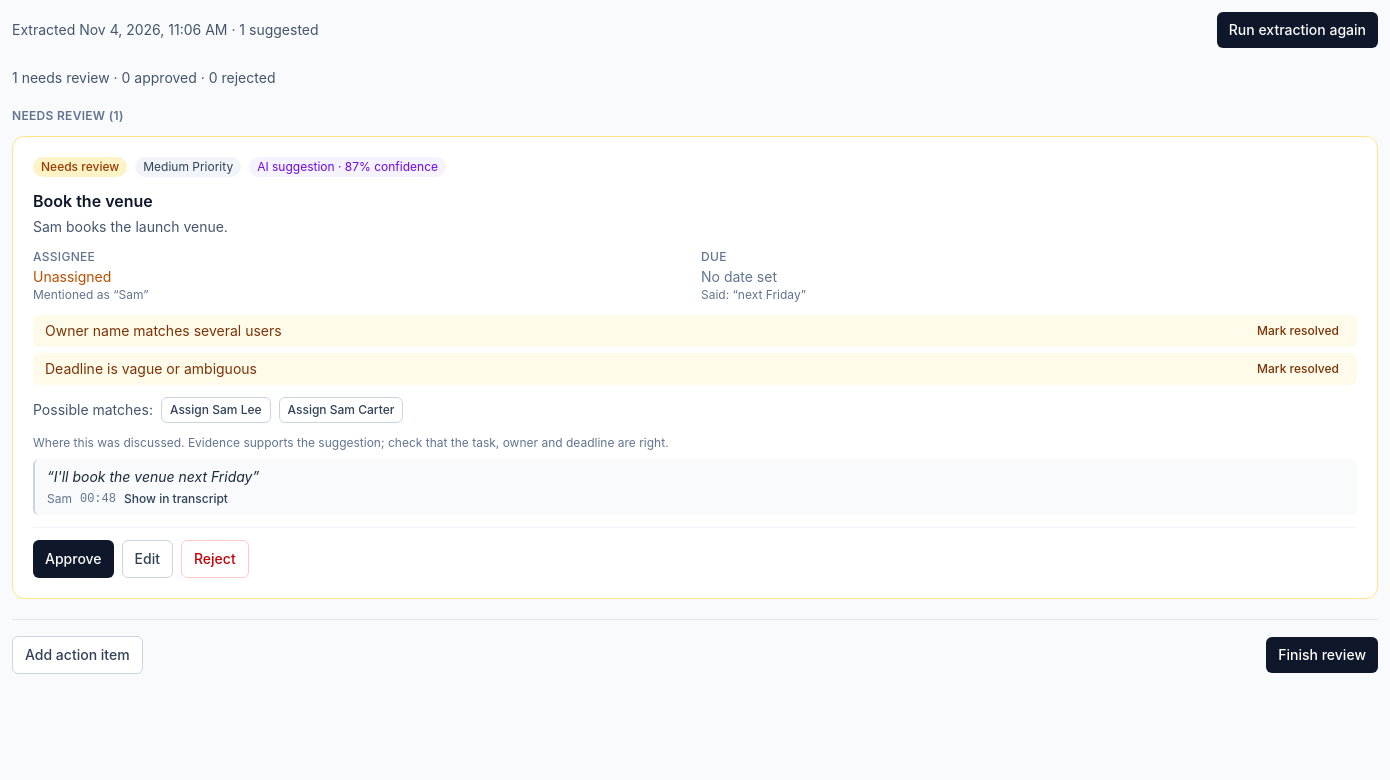
reviewing items › shows server validation errors next to fields
This screenshot has width=1390, height=780.
Click the button "Edit".
click(147, 559)  # box [122,540,173,578]
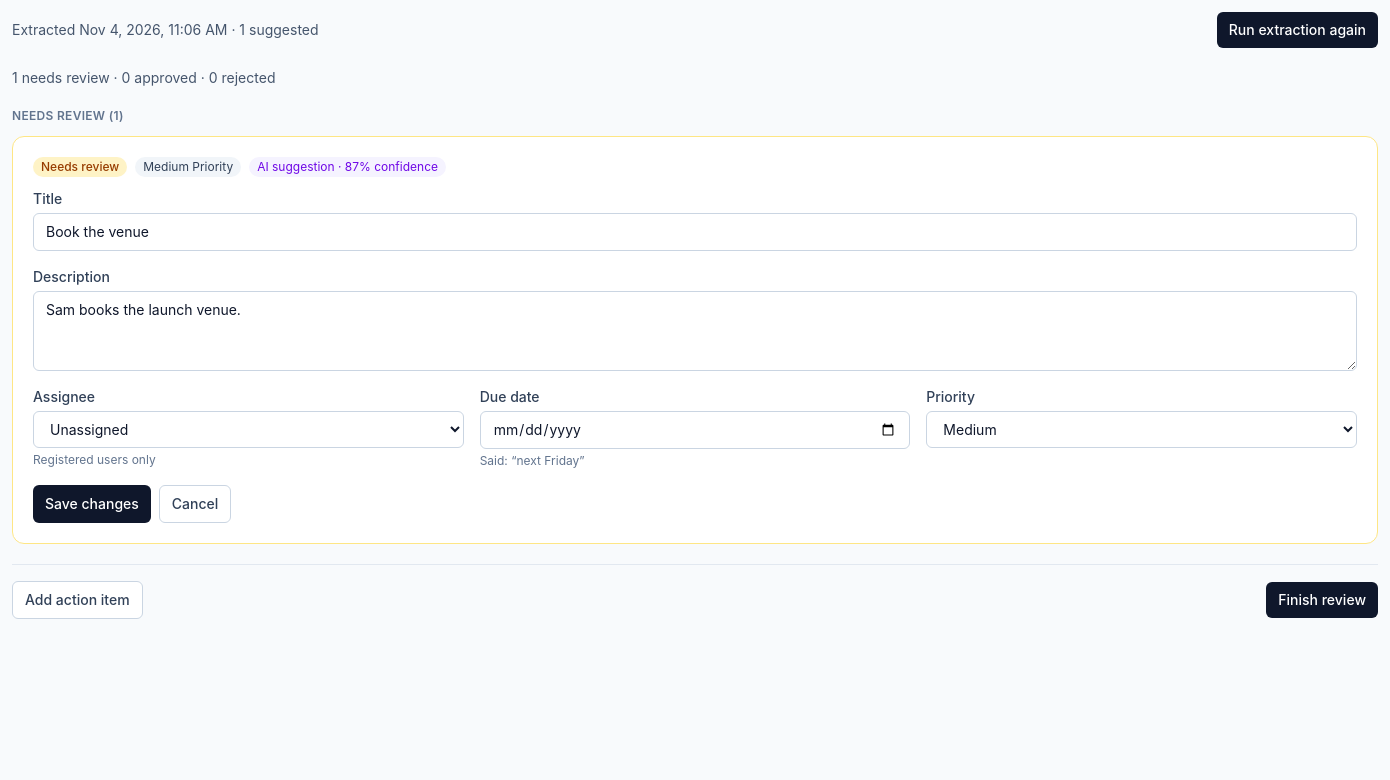
Type "2026-11-13" into the date field labelled "Due date".
click(695, 430); type("2026-11-13")  # box [480,411,910,449]
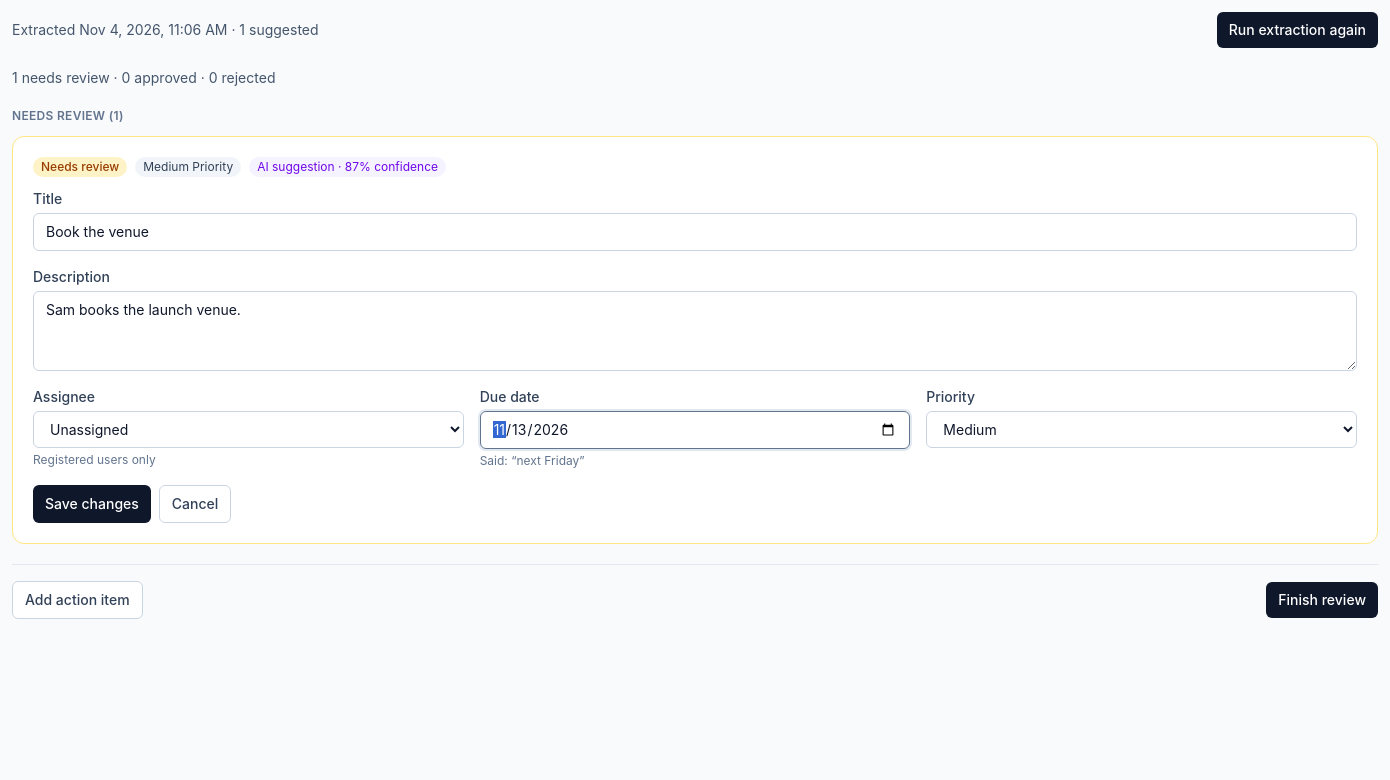
Click the button "Save changes".
click(92, 504)  # box [33,485,151,523]
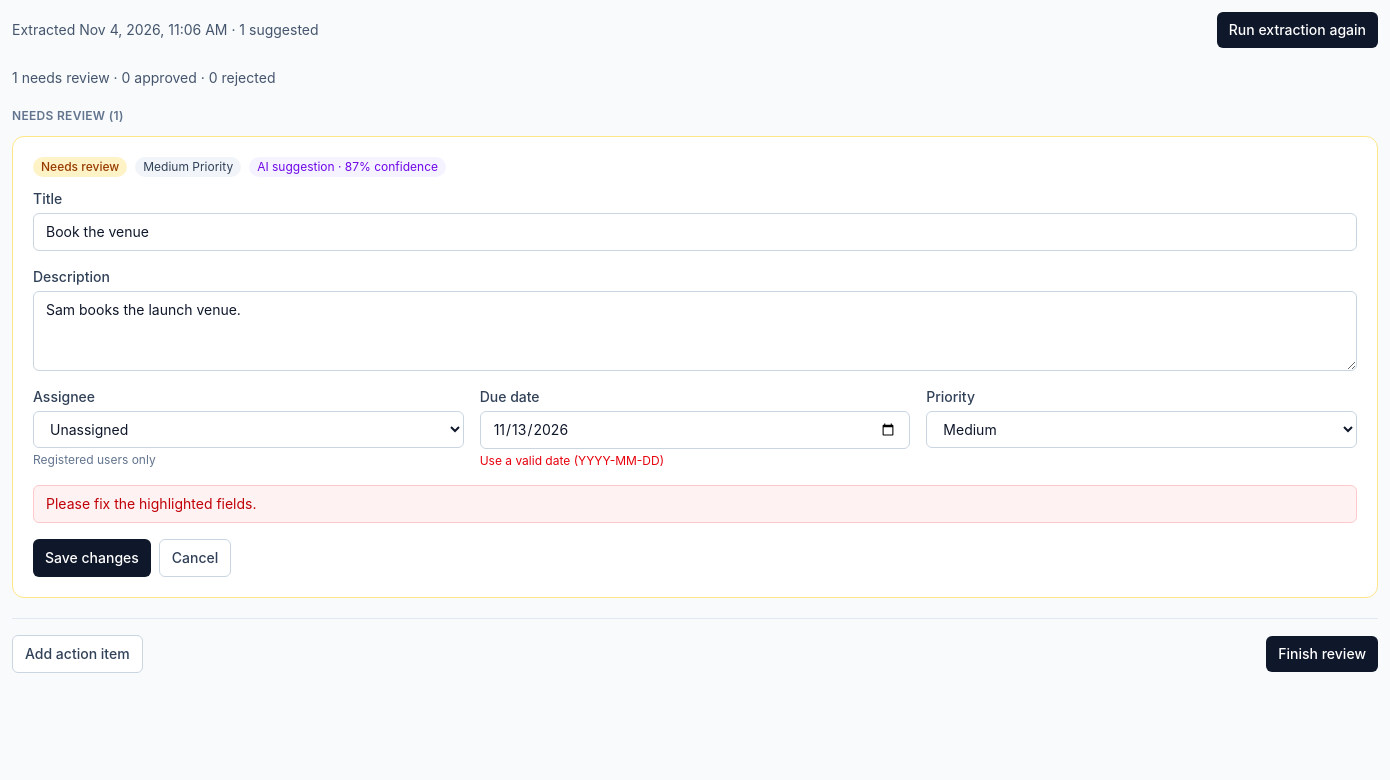
Expected: the text "Use a valid date (YYYY-MM-DD)" is shown, [480,453,664,468]
Expected: the text "Please fix the highlighted fields." is shown, [33,485,1357,523]
